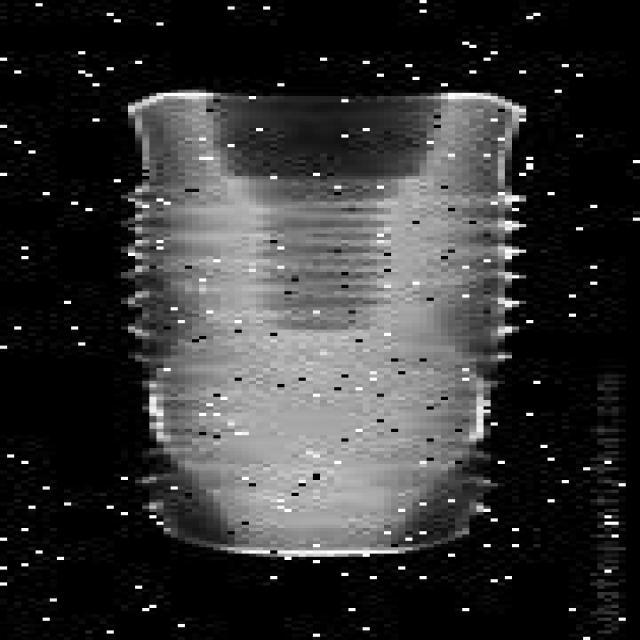Titan Implant Implant: (116, 89, 534, 561)
